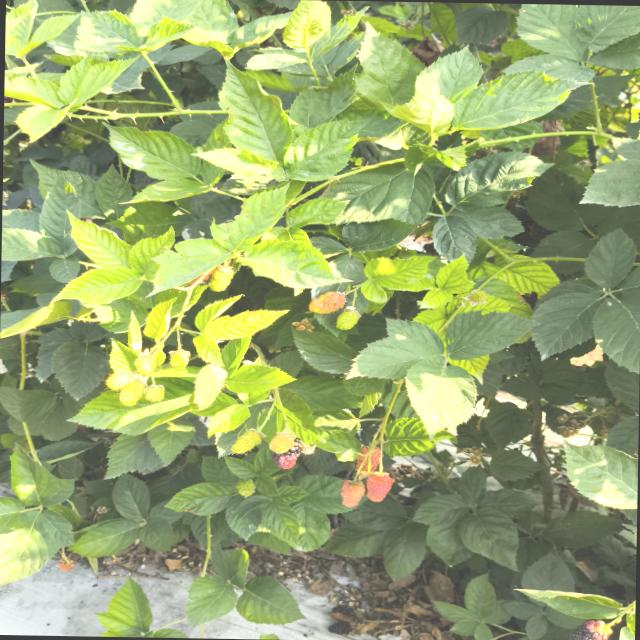marron: (271, 437, 303, 468), (569, 620, 611, 640)
naranja: (366, 472, 393, 501), (309, 291, 344, 313), (356, 445, 380, 471), (340, 480, 364, 506)
verde: (119, 379, 145, 406), (231, 431, 260, 454), (208, 266, 233, 291), (336, 306, 360, 330), (269, 431, 294, 453), (134, 352, 155, 376), (105, 370, 129, 390), (169, 348, 189, 369), (144, 384, 164, 402), (465, 290, 487, 305), (236, 479, 254, 497)
